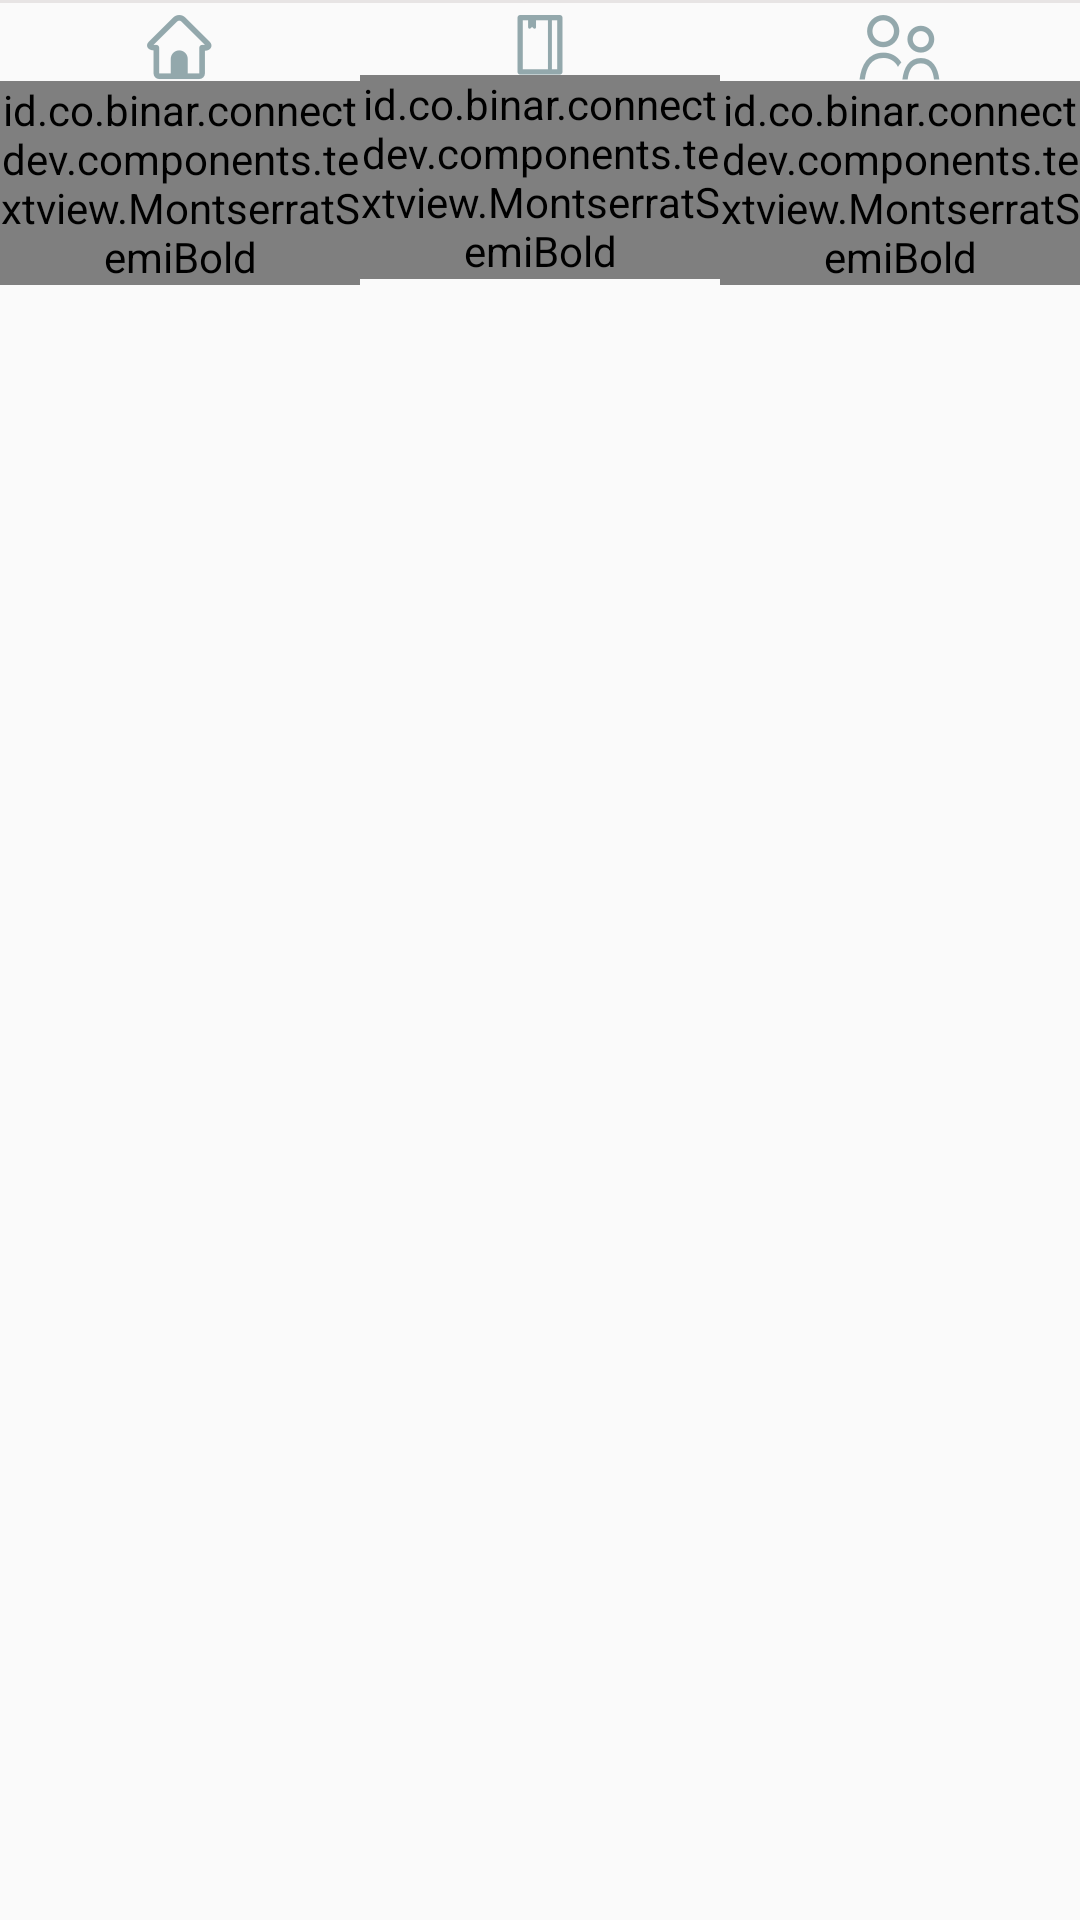

Named icons in this screenshot (1080 × 1920) and their bounding boxes, {"x1": x1, "y1": y1, "x2": x2, "y2": y2}:
friend: {"x1": 859, "y1": 15, "x2": 939, "y2": 80}
